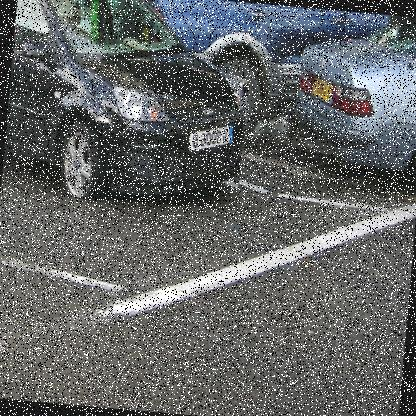Car: (1, 0, 255, 213), (140, 0, 391, 146), (283, 7, 415, 191)
